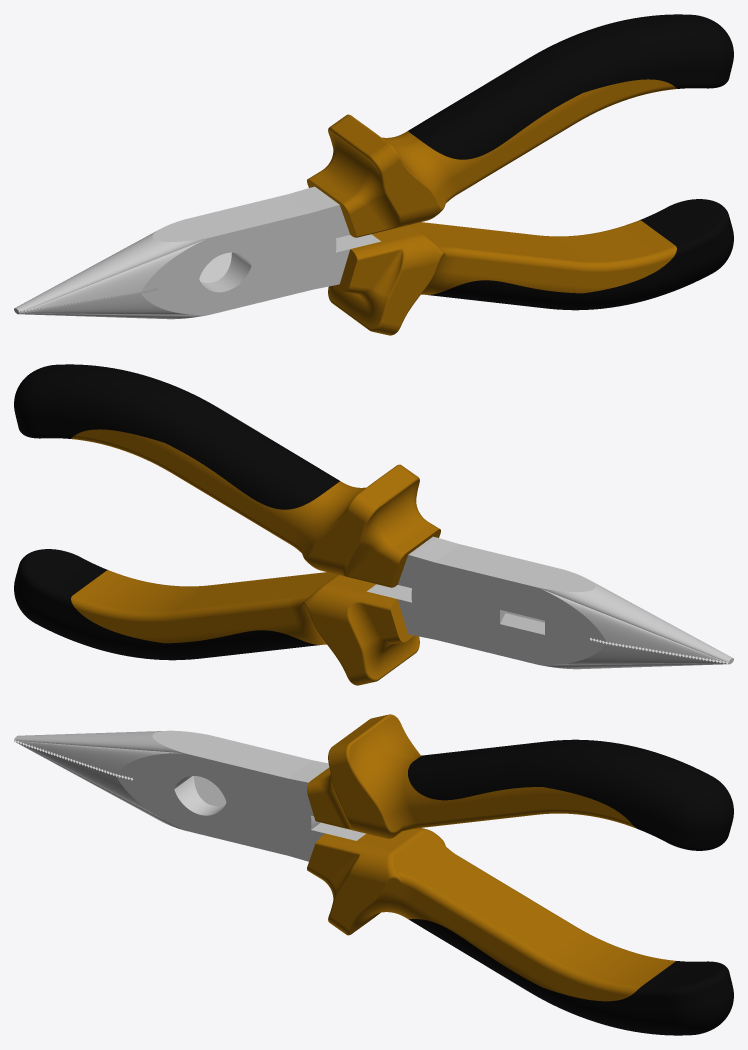
Rendered from Long Nose Pliers.obj.
3 renders of one model, top to bottom at view 1: azimuth 30°, elevation 25°; view 2: azimuth 150°, elevation 25°; view 3: azimuth 330°, elevation 25°, orthographic.
Visible parts, largest first — view 1: Long_Nose_Pliers; view 2: Long_Nose_Pliers; view 3: Long_Nose_Pliers.
Boxes of the visible parts, x1,y1,x2,y2 form: Long_Nose_Pliers: (14,14,733,335); Long_Nose_Pliers: (14,364,733,685); Long_Nose_Pliers: (14,714,733,1035).
Size of the model in its own units: 156 by 57.01 by 20.
